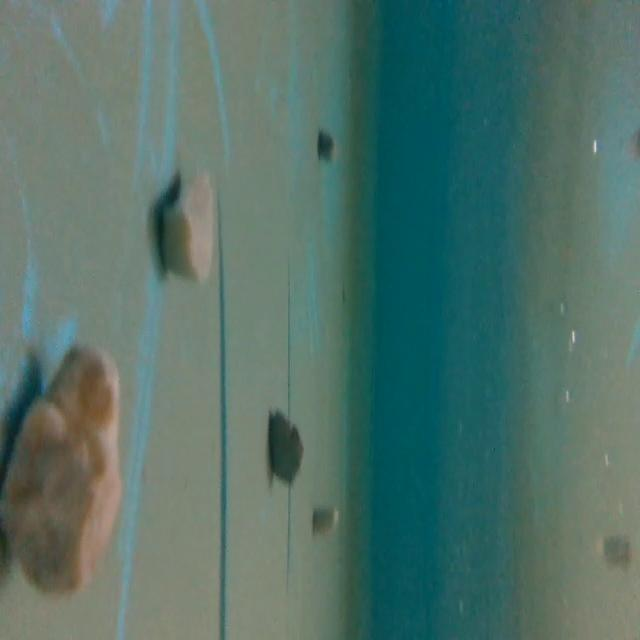rock: (1, 339, 130, 598), (149, 168, 227, 284), (266, 402, 306, 490), (307, 502, 341, 537), (314, 128, 334, 164)
